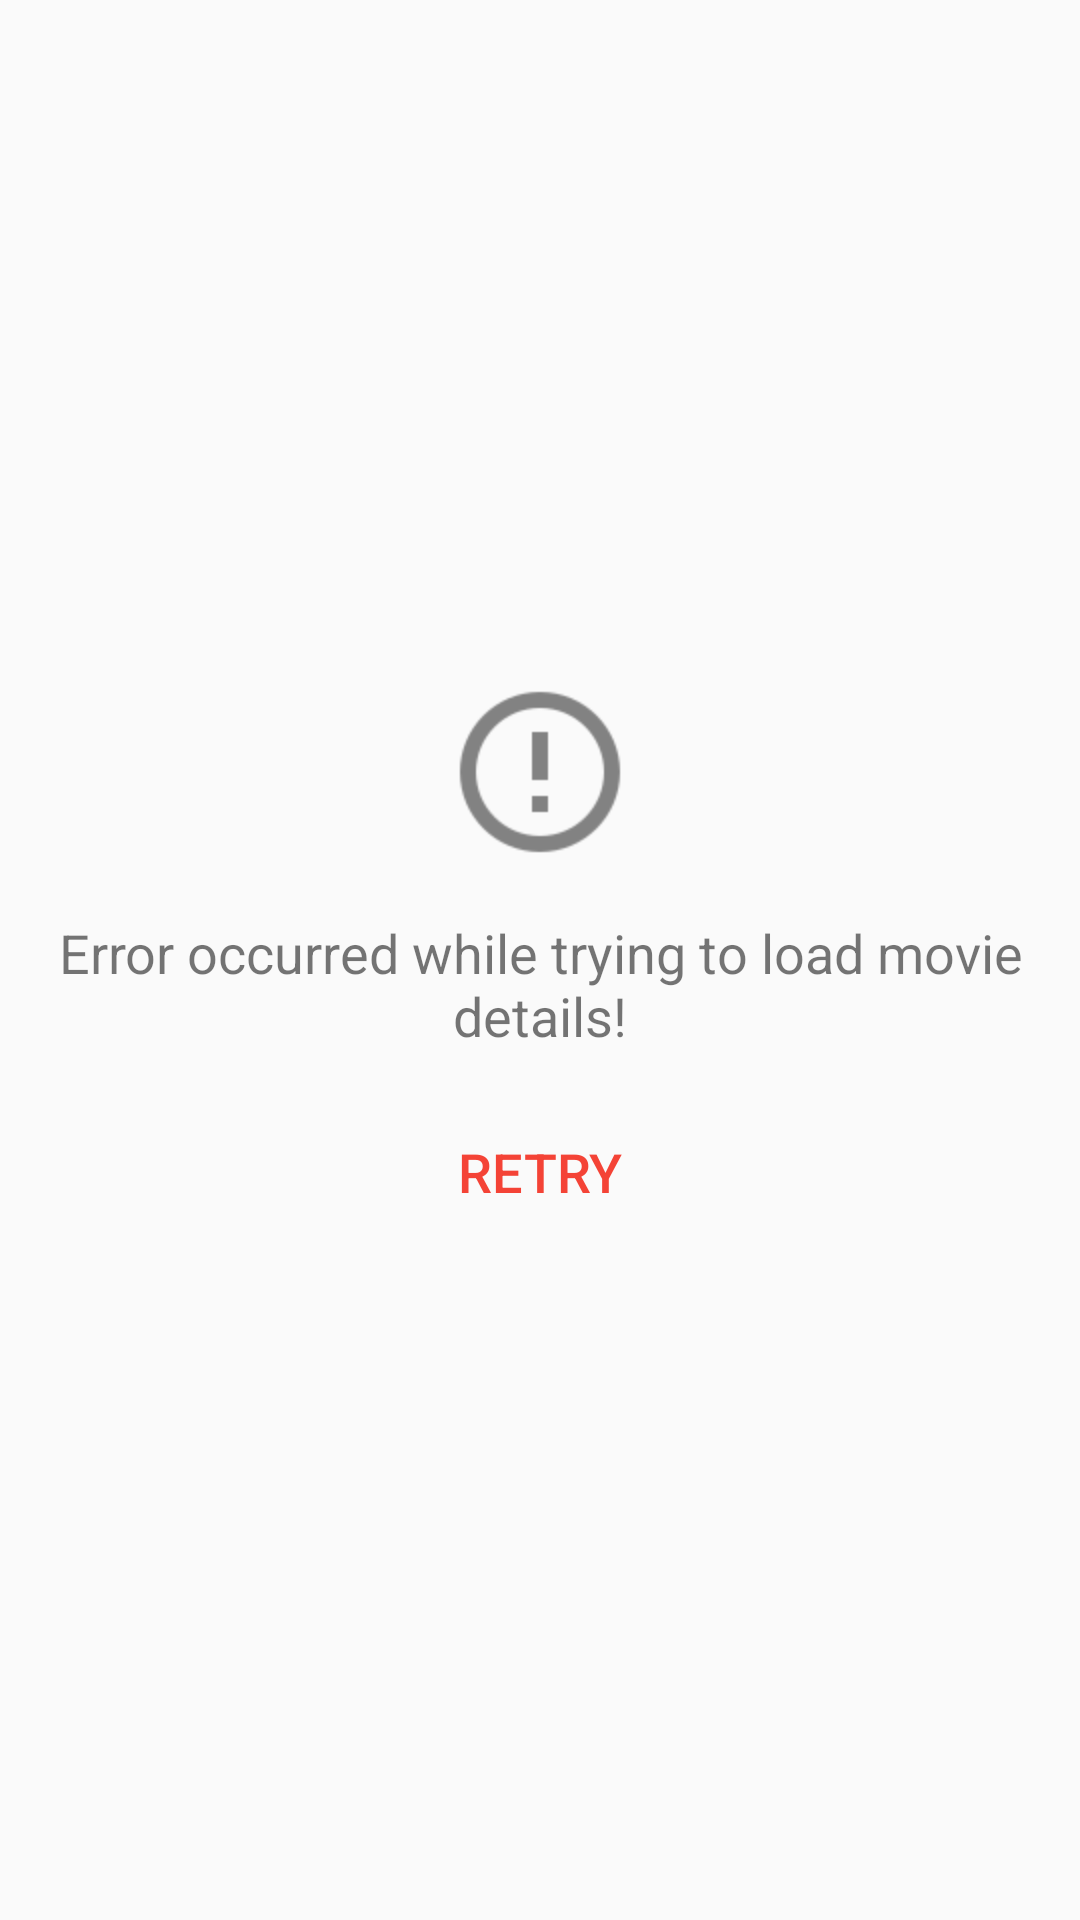

Locate icon controls on the screen. Image size 1080 x 1920, boxes as bbox(x1, y1, x2, y2).
alert circle: bbox(459, 691, 621, 853)
